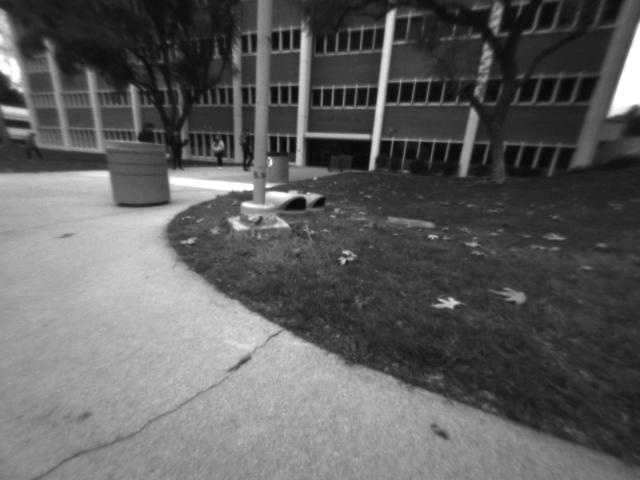trashcan: (112, 141, 171, 210)
